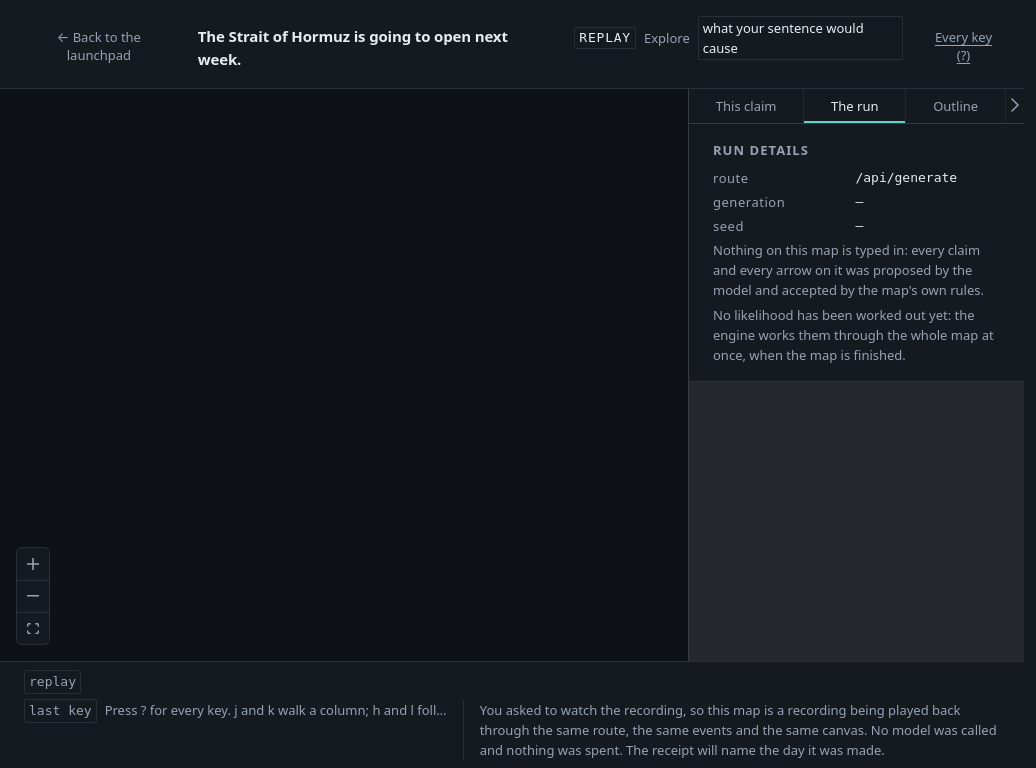
Test case: the ? key, screen by screen › the generation screen: the top-bar control opens the same sheet
What coordinates should you click on to do the following:
click the button "Every key (?)"
I would click on:
 (963, 46)
Its box is [927, 28, 1000, 64].
(page scrolled)
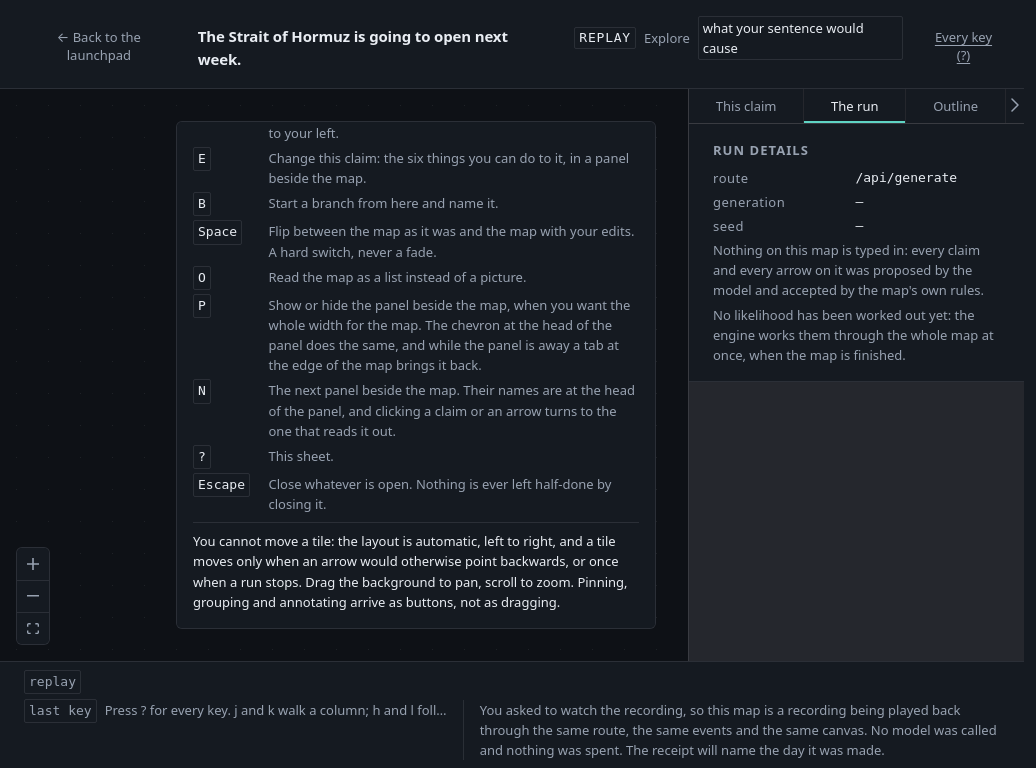
expect the text "You cannot move a tile" is shown: met, box [193, 532, 628, 611]
